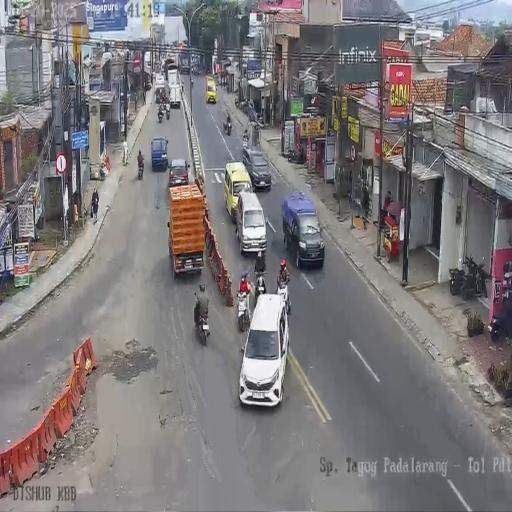car: (238, 294, 289, 408), (282, 192, 325, 268), (234, 188, 267, 257), (242, 146, 272, 192), (168, 158, 190, 188), (150, 136, 168, 170), (205, 75, 217, 104), (154, 72, 165, 96), (180, 59, 190, 74)
motorcycle: (449, 252, 489, 300), (490, 296, 512, 341), (236, 284, 253, 333), (194, 299, 210, 346), (277, 275, 291, 317), (254, 271, 267, 303), (287, 144, 305, 164), (223, 114, 232, 134), (137, 158, 144, 179), (158, 105, 164, 123), (165, 100, 170, 119), (190, 74, 193, 86)
truck: (167, 183, 206, 279), (165, 48, 180, 74), (144, 51, 152, 76)
